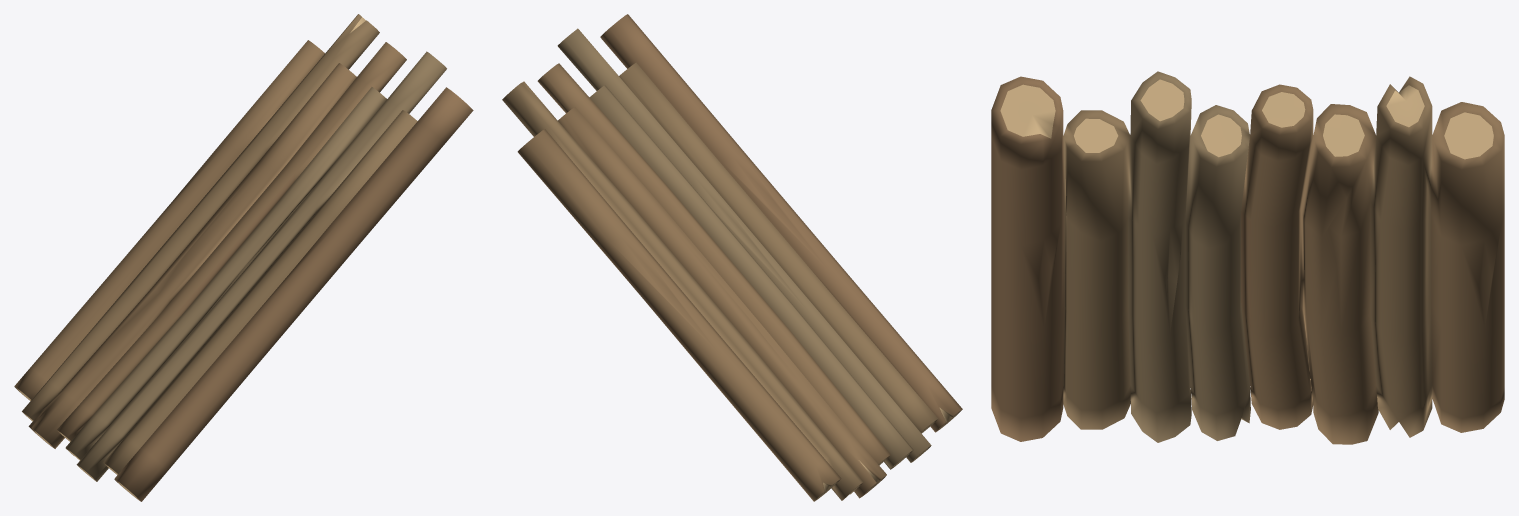
File: rpgpp_ag_roof_01a_6x3x3_half.fbx
The picture shows the model from 3 angles, left to right: view 1: azimuth 30°, elevation 25°; view 2: azimuth 150°, elevation 25°; view 3: azimuth 270°, elevation 25°; orthographic projection. The views are drawn at different scales.
Visible parts, largest first — view 1: rpgpp_ag_roof_01a_6x3x3_half; view 2: rpgpp_ag_roof_01a_6x3x3_half; view 3: rpgpp_ag_roof_01a_6x3x3_half.
Part boxes in pixels (<box>): rpgpp_ag_roof_01a_6x3x3_half: <box>14,14,473,501</box>; rpgpp_ag_roof_01a_6x3x3_half: <box>502,14,962,501</box>; rpgpp_ag_roof_01a_6x3x3_half: <box>991,71,1504,444</box>.
Size of the model in its own units: 4.96 by 4.49 by 3.
